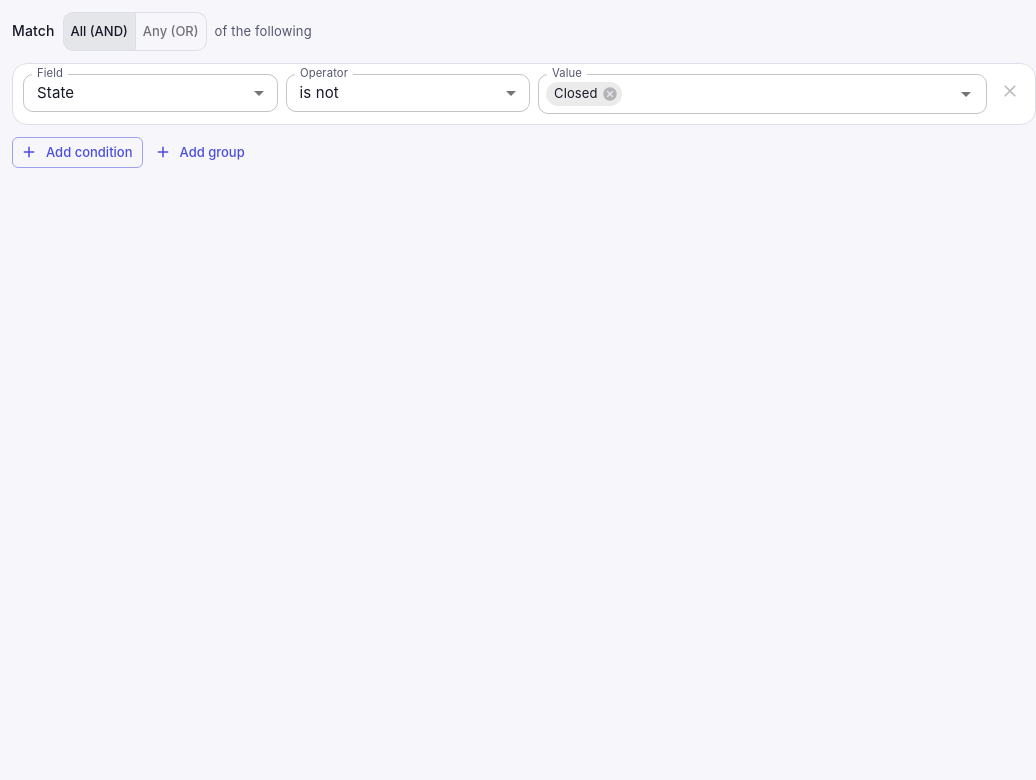
Test: FilterBuilder › does not offer Customer without customer search
The width and height of the screenshot is (1036, 780).
Click the dropdown named "Field".
click(56, 93)  # box [37, 83, 74, 102]
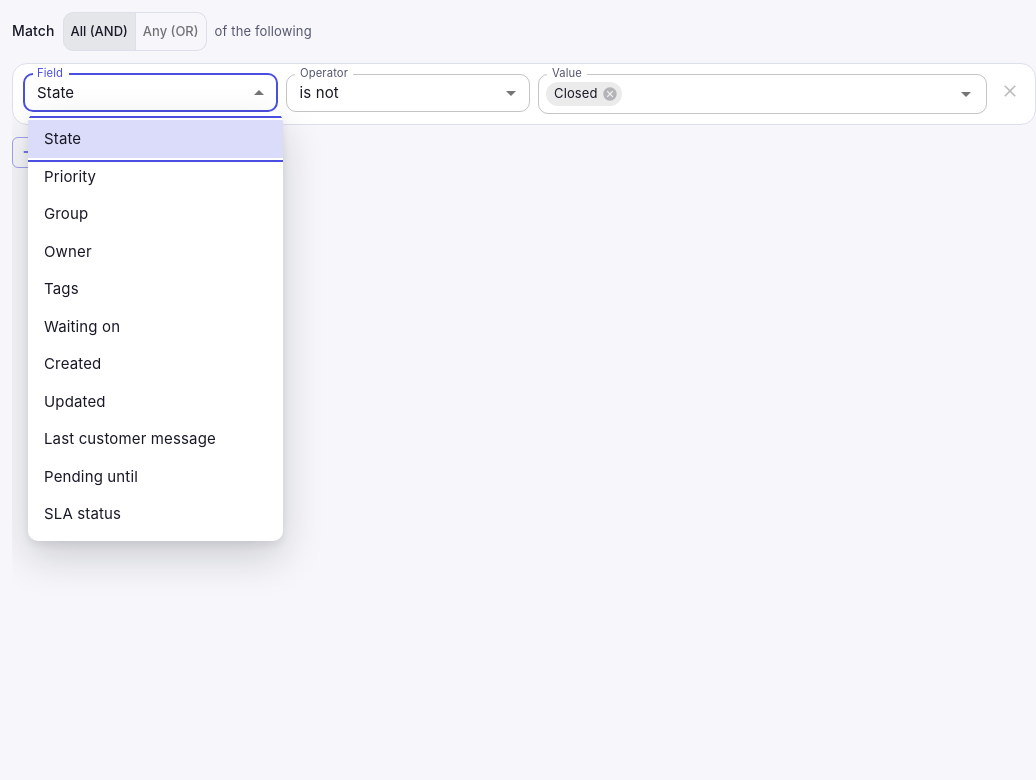
Result: the option "Owner" is shown at [44, 242, 92, 260]
